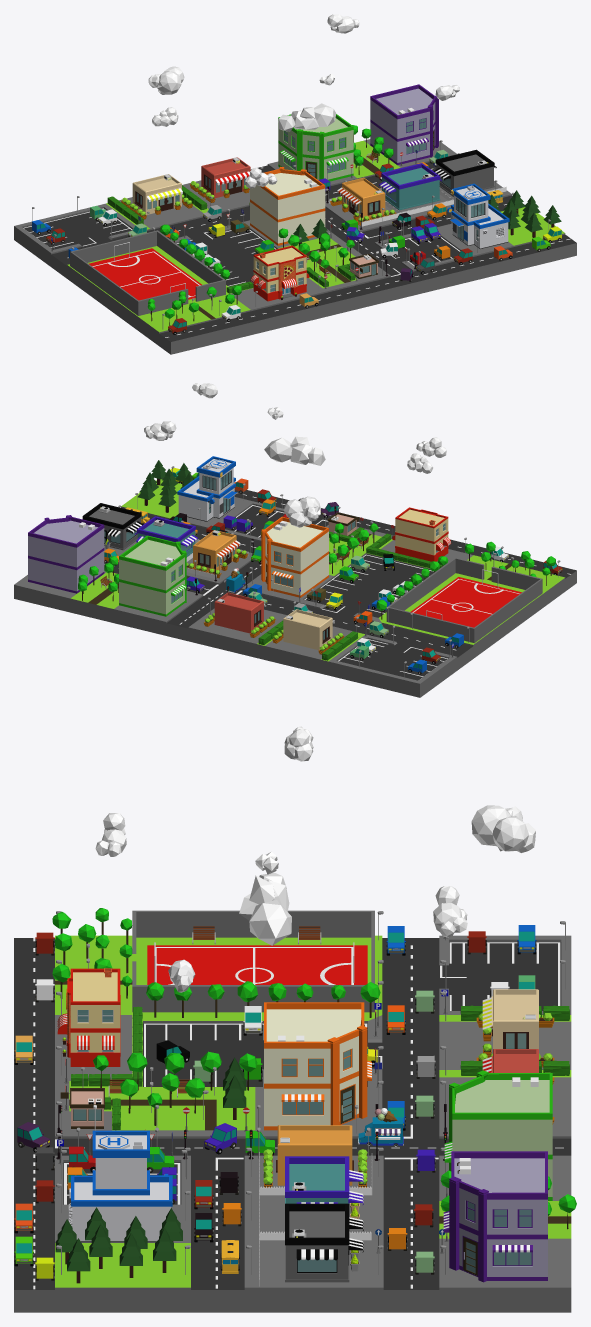
The model's file is city.glb.
3 views of the same model, one above another, from view 1: azimuth 30°, elevation 25°; view 2: azimuth 150°, elevation 25°; view 3: azimuth 270°, elevation 25° (orthographic). The views are drawn at different scales.
Visible parts, largest first — view 1: plane, tenda.006, Cube.002, vetro.016, Sphere.001, tenda.005, police station, pizzeria, base casa.002, base casa.003, Icosphere.008, vetro.017 (+12 smaller); view 2: plane, tenda.006, Cube.002, tenda.005, vetro.016, Sphere.001, police station, pizzeria, vetro.017, Icosphere.008, casa.006, base casa.003 (+11 smaller); view 3: plane, vetro.016, tenda.006, Cube.002, Sphere.001, tenda.005, police station, base casa.003, pizzeria, road lines, Cube.001, Icosphere.008 (+13 smaller).
Part boxes in pixels (x1,y1,x2,y2): plane: (14, 139, 576, 354); tenda.006: (370, 84, 438, 165); Cube.002: (70, 230, 225, 315); vetro.016: (250, 166, 325, 245); Sphere.001: (148, 14, 459, 188); tenda.005: (278, 114, 353, 181); police station: (447, 183, 509, 248); pizzeria: (250, 245, 309, 301); base casa.002: (379, 163, 441, 210); base casa.003: (433, 149, 496, 196); Icosphere.008: (121, 174, 192, 219); vetro.017: (189, 157, 250, 202); plane: (14, 478, 576, 697); tenda.006: (28, 515, 104, 593); Cube.002: (386, 557, 542, 643); tenda.005: (119, 535, 186, 616); vetro.016: (261, 516, 328, 597); Sphere.001: (144, 383, 446, 527); police station: (177, 456, 237, 521); pizzeria: (392, 507, 451, 561); vetro.017: (204, 592, 275, 637); Icosphere.008: (272, 609, 344, 654); casa.006: (186, 530, 247, 578); base casa.003: (82, 503, 143, 550); plane: (14, 935, 571, 1312); vetro.016: (264, 1002, 371, 1130); tenda.006: (443, 1151, 547, 1282); Cube.002: (132, 910, 374, 1012); Sphere.001: (95, 726, 535, 992); tenda.005: (444, 1070, 552, 1200); police station: (68, 1129, 172, 1242); base casa.003: (285, 1203, 363, 1282); pizzeria: (57, 968, 120, 1066); road lines: (33, 938, 563, 1289); Cube.001: (55, 1207, 182, 1283); Icosphere.008: (476, 989, 554, 1067).
Size of the model in its own units: 12845 by 5470 by 8681.
Materials: 7 (4 with a texture image).
